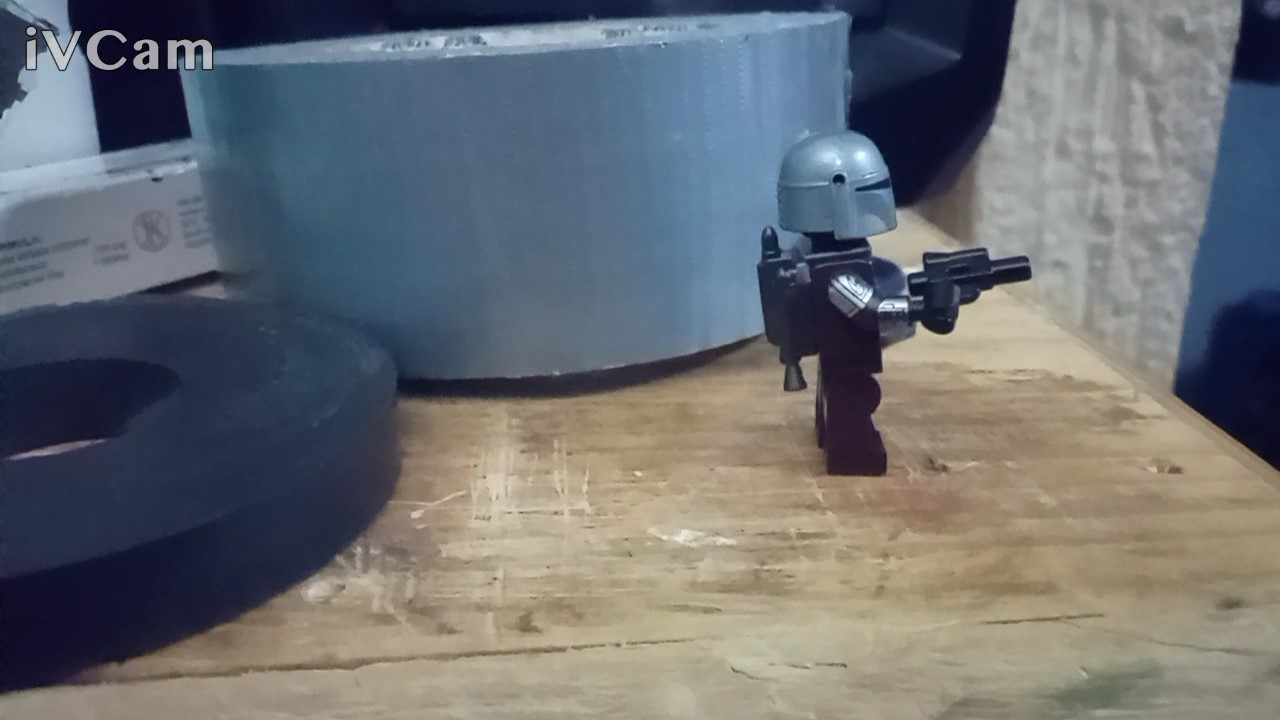mandalorian: (751, 119, 1040, 499)
